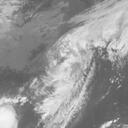cyclone: (41, 42, 95, 97)
